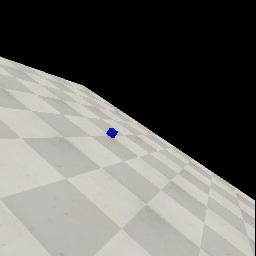box: (106, 128, 118, 138)
